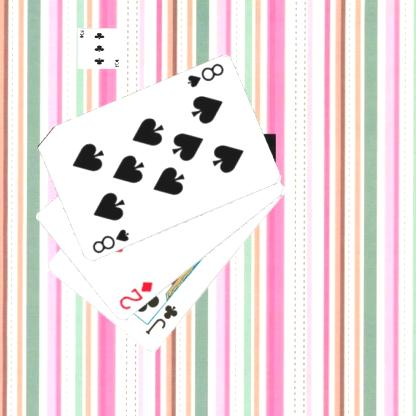2D: (116, 278, 155, 312)
8S: (89, 226, 131, 256), (184, 60, 225, 90)
JC: (142, 302, 180, 337)
